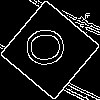O: (25, 25, 75, 68)
